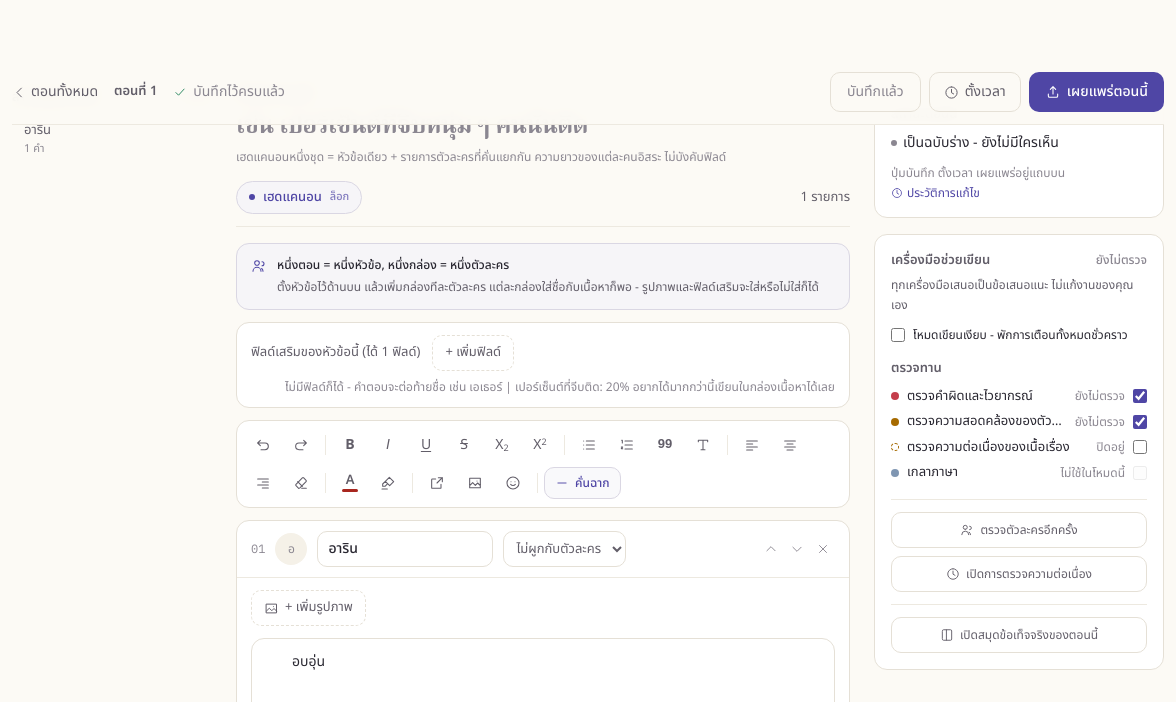
Test: the headcanon topic › keeps answers aligned when the first field is added
Click the button "+ เพิ่มฟิลด์" at (473, 353), box [432, 335, 514, 371]
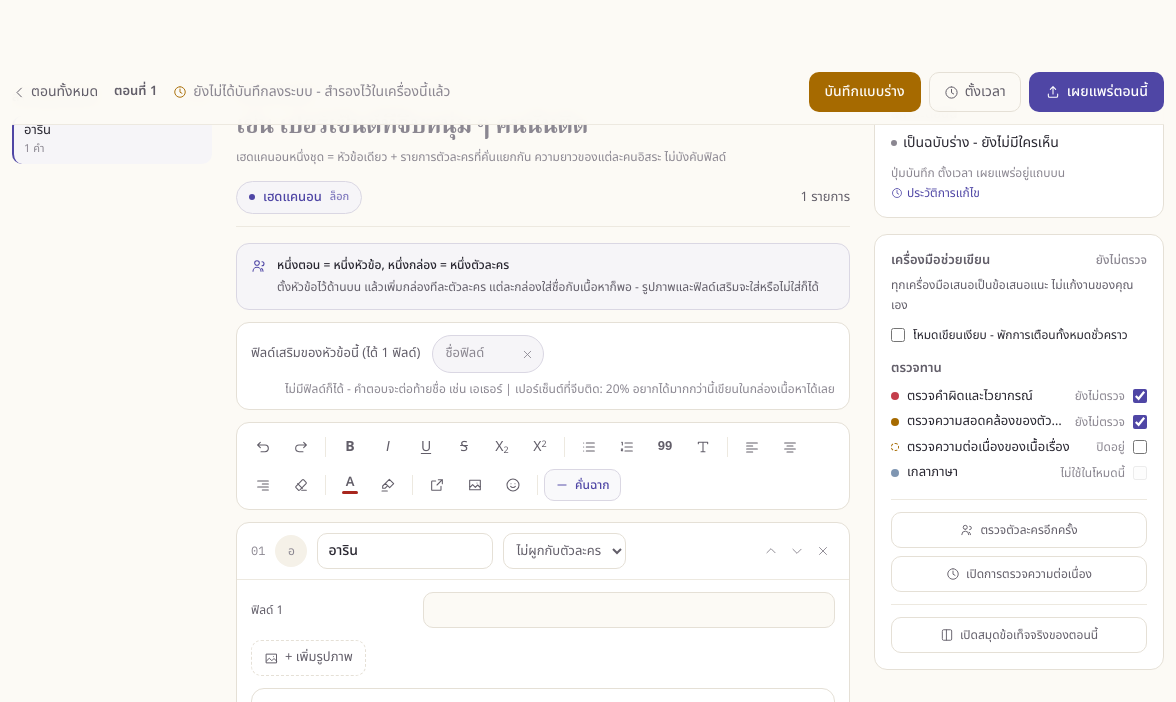
Expected: the field labelled "ฟิลด์ 1" is empty, [423, 592, 835, 628]
Now the button "+ เพิ่มฟิลด์" is gone
